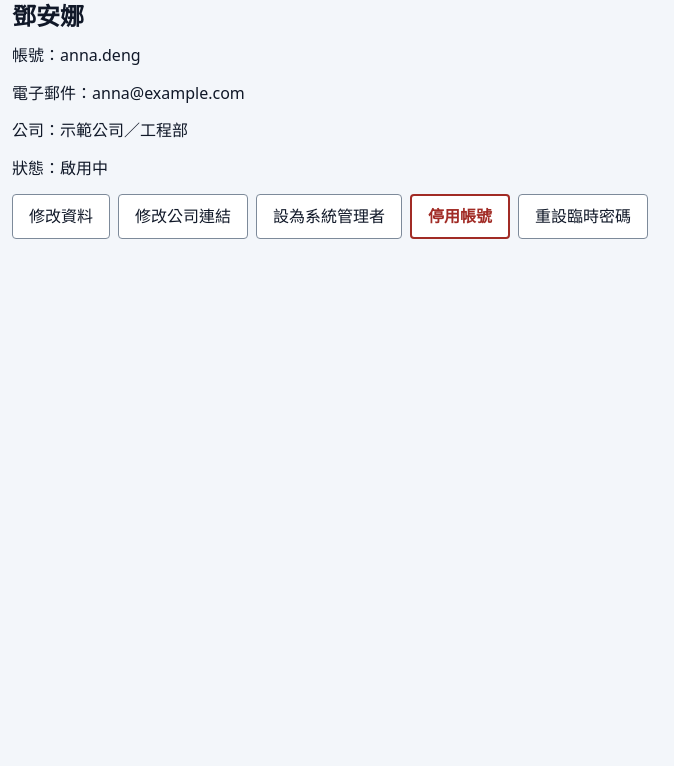
it: 使用者資料編輯 共用表單 › 存檔失敗後取消再開表單會清除舊錯誤
Click the button "修改資料": x=61, y=216 [12,194,110,239]
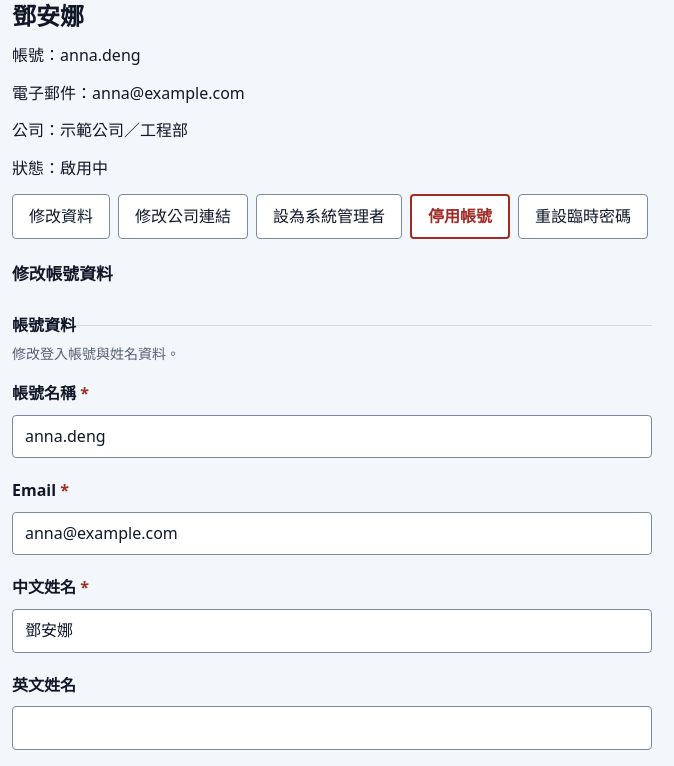
Replace the text in the field labelled "帳號名稱" with "changed": x=332, y=436 [12,415,652,458]
(page scrolled)
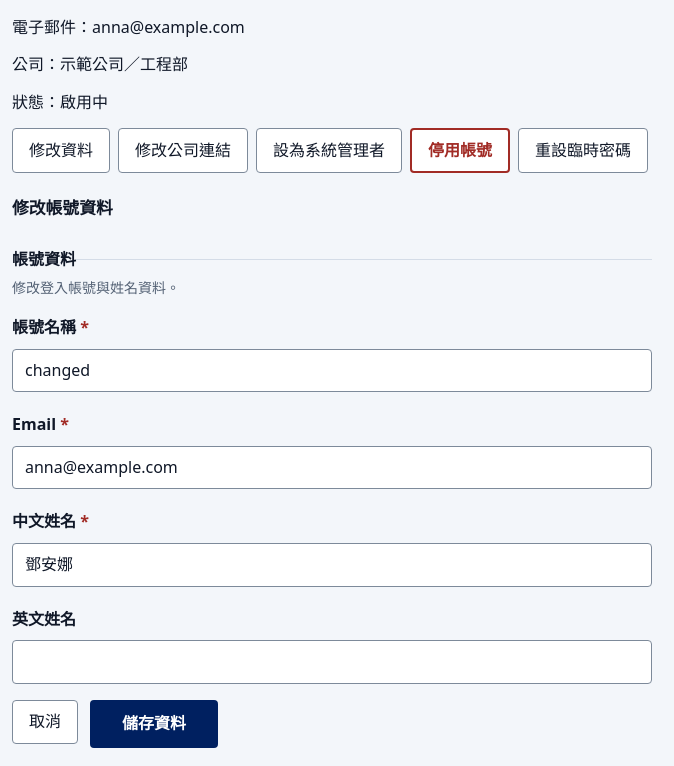
Click the button "儲存資料": x=154, y=724 [90,700,218,748]
(page scrolled)
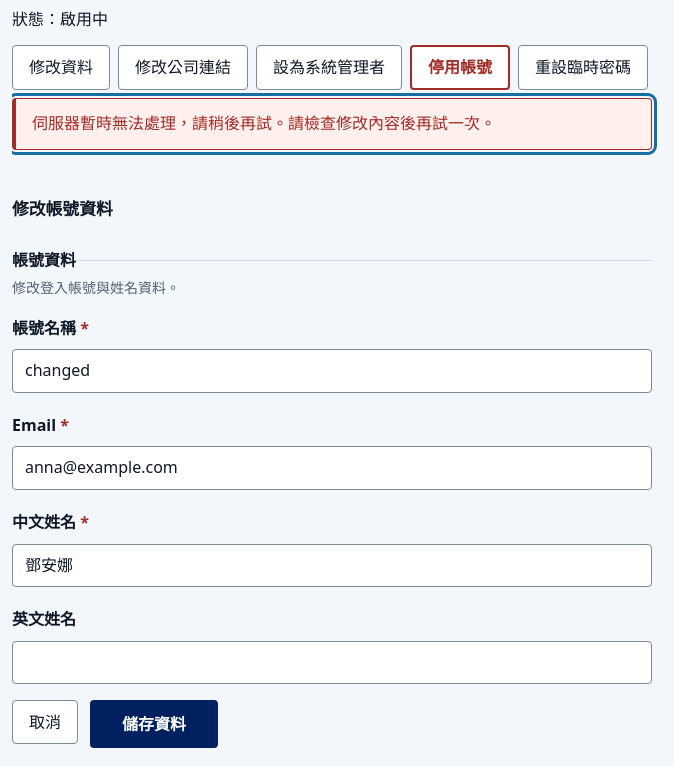
Now the message "伺服器暫時無法處理，請稍後再試。請檢查修改內容後再試一次。" is shown, box [12,98,652,150]
Click the button "取消": x=45, y=722 [12,700,78,744]
(page scrolled)
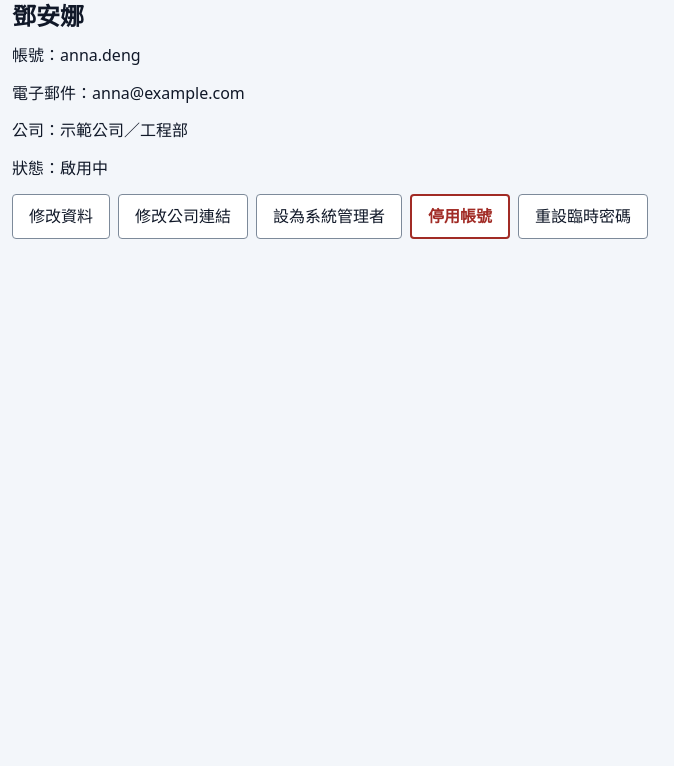
Click the button "修改資料": x=61, y=216 [12,194,110,239]
(page scrolled)
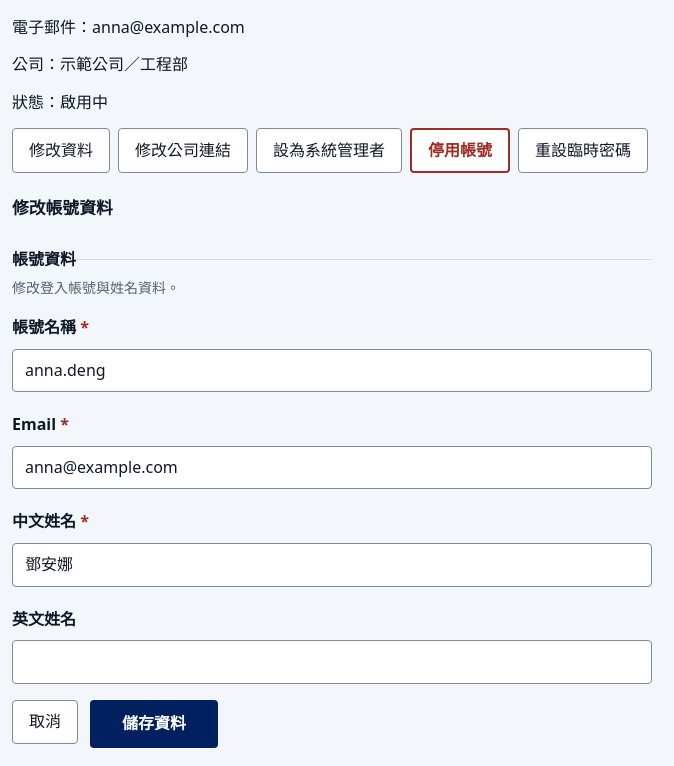
Expected: the message "伺服器暫時無法處理，請稍後再試。請檢查修改內容後再試一次。" is not shown
Now the button "儲存資料" is shown, box [90,700,218,748]
